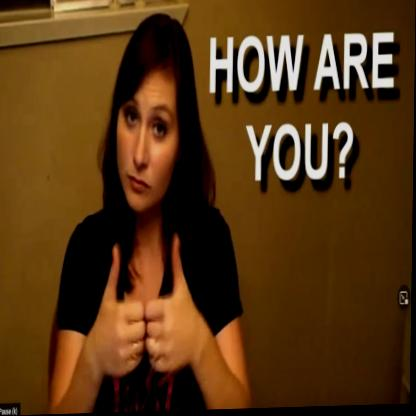HowAreYou: (93, 229, 211, 394)
